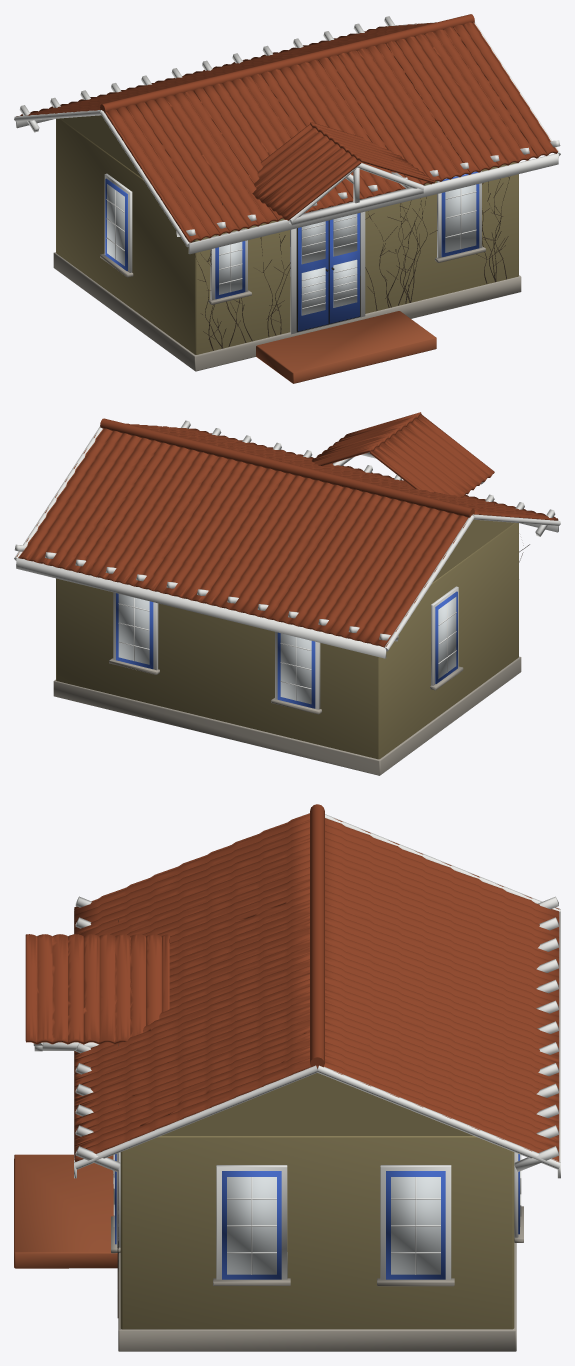
3 views of the same model, one above another, from view 1: azimuth 30°, elevation 25°; view 2: azimuth 150°, elevation 25°; view 3: azimuth 270°, elevation 25° (orthographic). The views are drawn at different scales.
Parts seen in each view (by area): view 1: bar, gable, leaf; view 2: bar, gable, leaf; view 3: gable, bar, leaf.
Boxes of the visible parts, left/top/right/bottom form: bar: left=14, top=14, right=560, bottom=383; gable: left=16, top=22, right=557, bottom=242; leaf: left=105, top=171, right=479, bottom=331; bar: left=14, top=418, right=560, bottom=775; gable: left=16, top=412, right=558, bottom=647; leaf: left=116, top=591, right=457, bottom=708; gable: left=25, top=813, right=559, bottom=1162; bar: left=14, top=804, right=560, bottom=1351; leaf: left=115, top=1154, right=519, bottom=1279.
Size of the model in its own units: 7.4 by 4.17 by 6.67.
4 materials, 4 textured.
